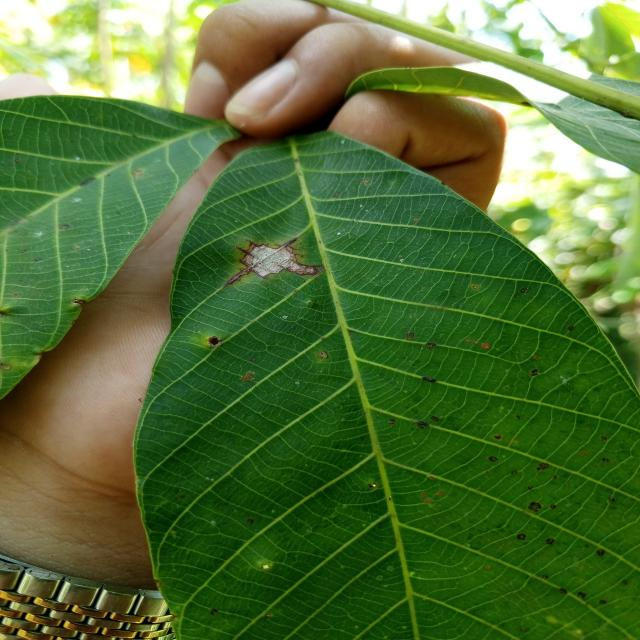Colletotrichum: (527, 501, 542, 512), (536, 462, 548, 471), (596, 549, 606, 557), (427, 342, 437, 350), (517, 533, 526, 541), (530, 369, 539, 377), (489, 455, 498, 462), (546, 538, 554, 545), (406, 333, 414, 339), (389, 418, 395, 424), (473, 285, 479, 290)
Corynespora: (222, 237, 319, 286), (236, 245, 252, 258), (246, 239, 264, 248)
Leaf-Blight: (249, 246, 315, 275)
